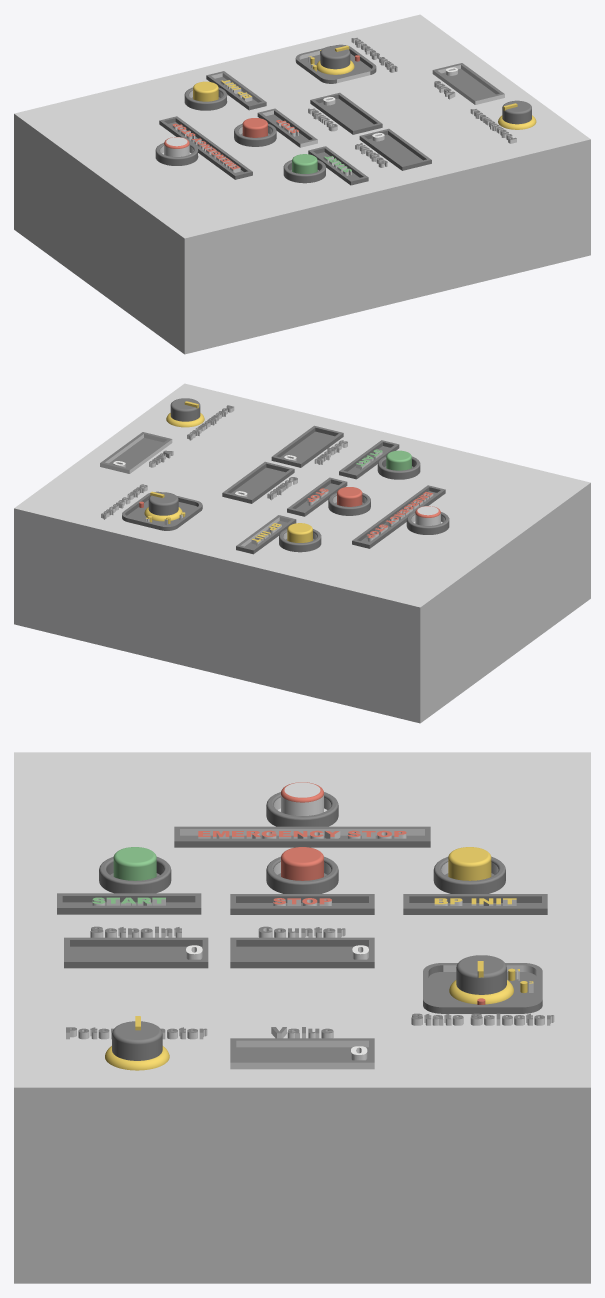
The model's file is CommandBox.glb.
The picture shows the model from 3 angles, top to bottom: view 1: azimuth 30°, elevation 25°; view 2: azimuth 150°, elevation 25°; view 3: azimuth 270°, elevation 25°; orthographic projection. The views are drawn at different scales.
Parts seen in each view (by area): view 1: MetallicBase, StateSelector, Potentiometer, YellowButton, EmergencyButton, GreenButton, RedButton; view 2: MetallicBase, Potentiometer, StateSelector, GreenButton, EmergencyButton, RedButton, YellowButton; view 3: MetallicBase, Potentiometer, StateSelector, YellowButton, GreenButton, EmergencyButton, RedButton.
Part boxes in pixels (x1,y1,x2,y2): MetallicBase: [14, 14, 590, 354]; StateSelector: [316, 45, 354, 74]; Potentiometer: [498, 100, 536, 129]; YellowButton: [193, 81, 218, 101]; EmergencyButton: [164, 137, 189, 156]; GreenButton: [292, 154, 317, 173]; RedButton: [242, 118, 267, 137]; MetallicBase: [14, 383, 590, 723]; Potentiometer: [166, 398, 204, 427]; StateSelector: [144, 491, 182, 521]; GreenButton: [386, 450, 411, 470]; EmergencyButton: [415, 506, 440, 525]; RedButton: [337, 487, 362, 506]; YellowButton: [287, 523, 312, 542]; MetallicBase: [14, 752, 590, 1283]; Potentiometer: [105, 1016, 169, 1070]; StateSelector: [449, 955, 513, 1004]; YellowButton: [448, 847, 491, 880]; GreenButton: [113, 847, 156, 880]; EmergencyButton: [281, 782, 323, 815]; RedButton: [281, 847, 323, 880].
Size of the model in its own units: 0.275 by 0.0865 by 0.2.
